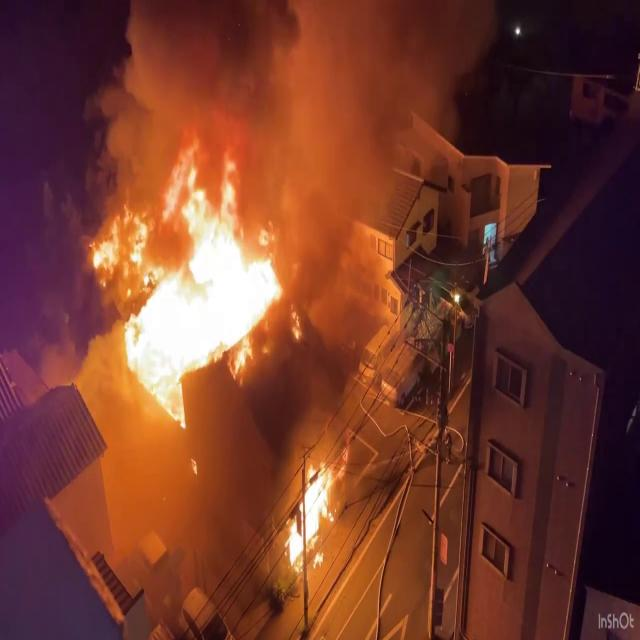Fire: (95, 132, 296, 425), (280, 453, 342, 577)
Smoke: (103, 0, 500, 229)
